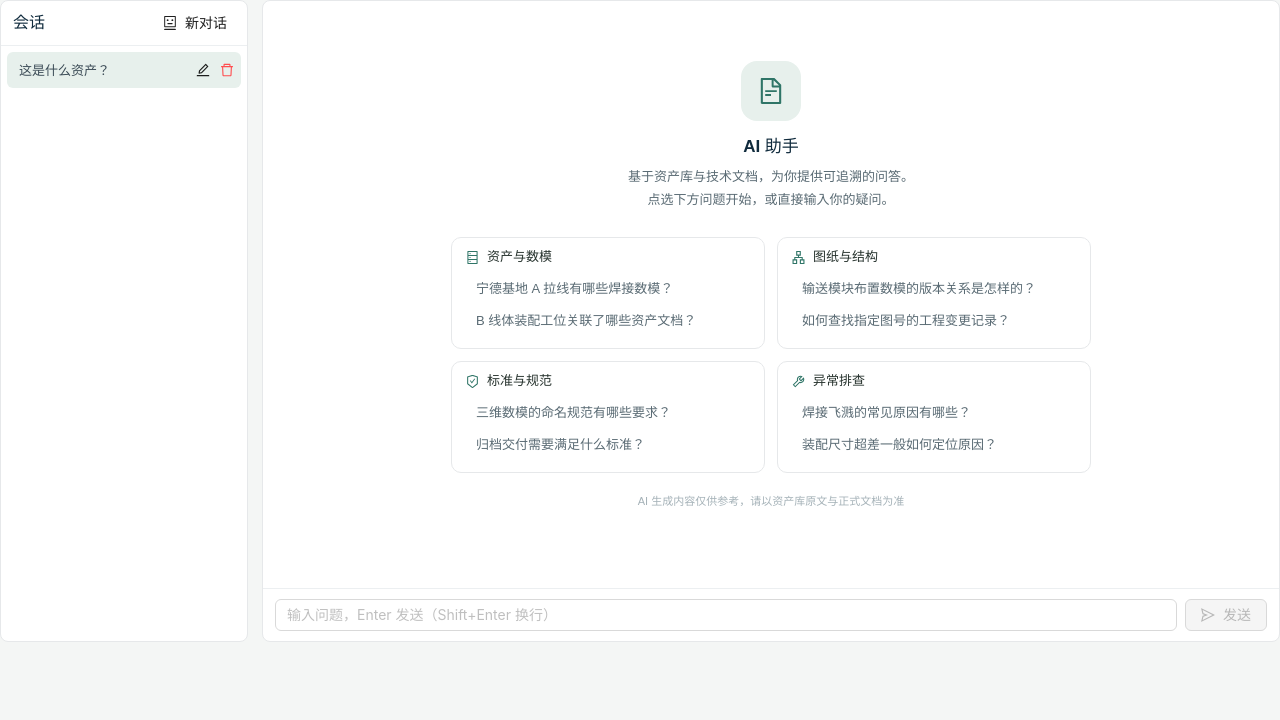
Test: AiChatPage（T5 AI 助手工作台） › 加载会话列表并可发起流式问答，渲染 markdown 回答与可展开引用卡
Expected: the text "这是什么资产？" is shown, [19, 62, 110, 78]
Type "宁德基地有哪些焊接数模" into the text box named "问题输入框".
click(726, 615); type("宁德基地有哪些焊接数模")  # box [275, 599, 1177, 631]
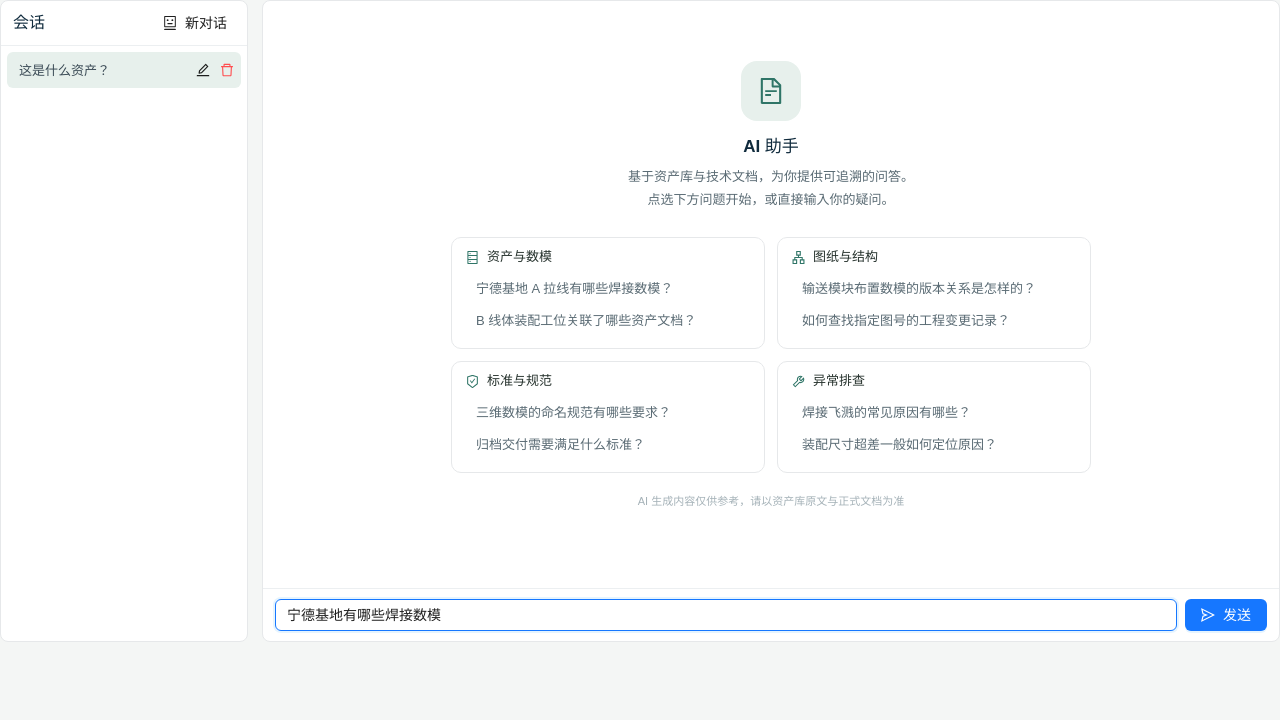
Click the button with aria-label "发送问题".
click(1226, 615)  # box [1185, 599, 1267, 631]
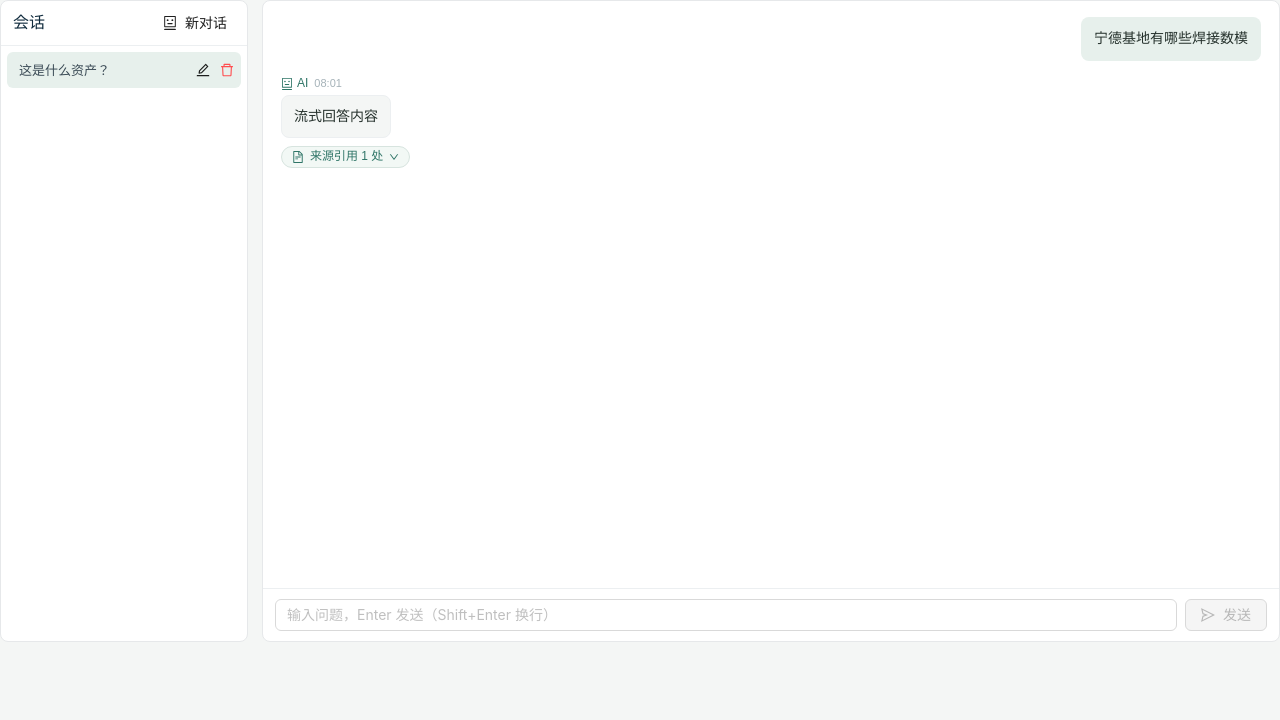
Now the text "流式回答内容" is shown, box [294, 105, 378, 128]
Now the button "来源引用 1 处" is shown
Click the button "来源引用 1 处".
click(346, 157)  # box [281, 146, 410, 168]
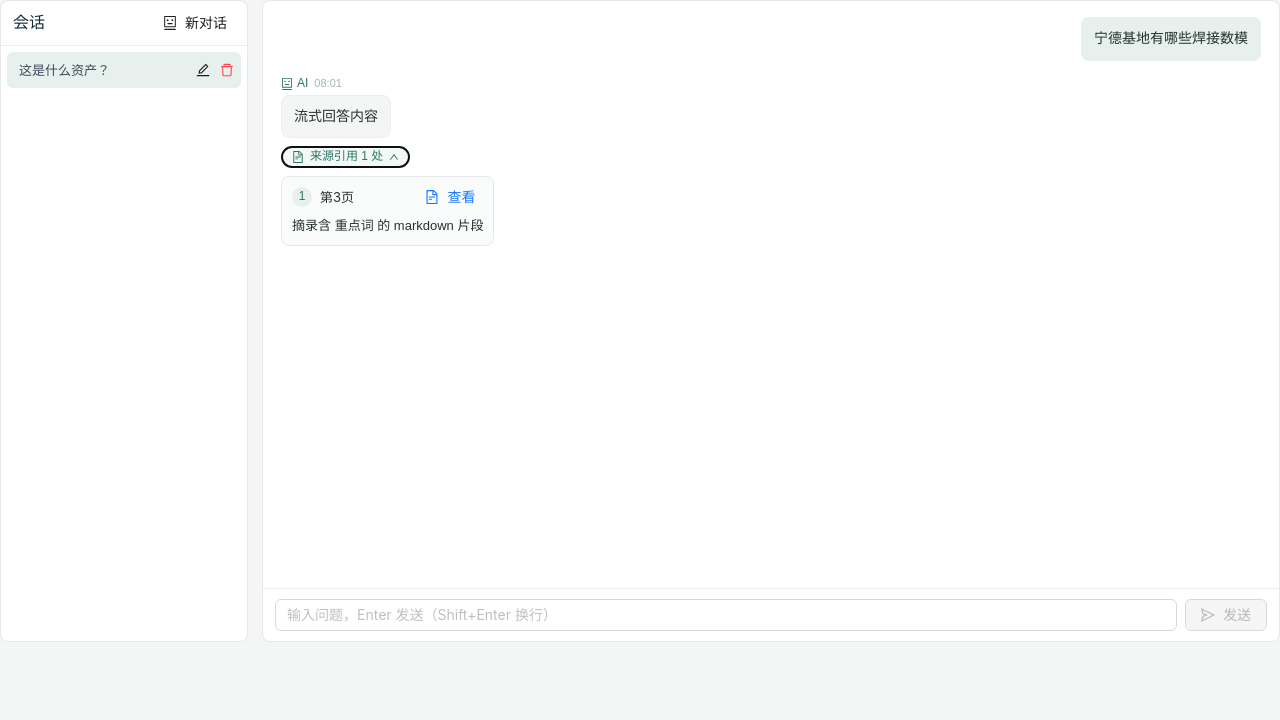
Now the text "第3页" is shown, box [320, 189, 354, 205]
Now the text "重点词" is shown, box [335, 218, 374, 233]
Now the button with aria-label "查看引用 1" is shown, box [418, 185, 484, 209]
